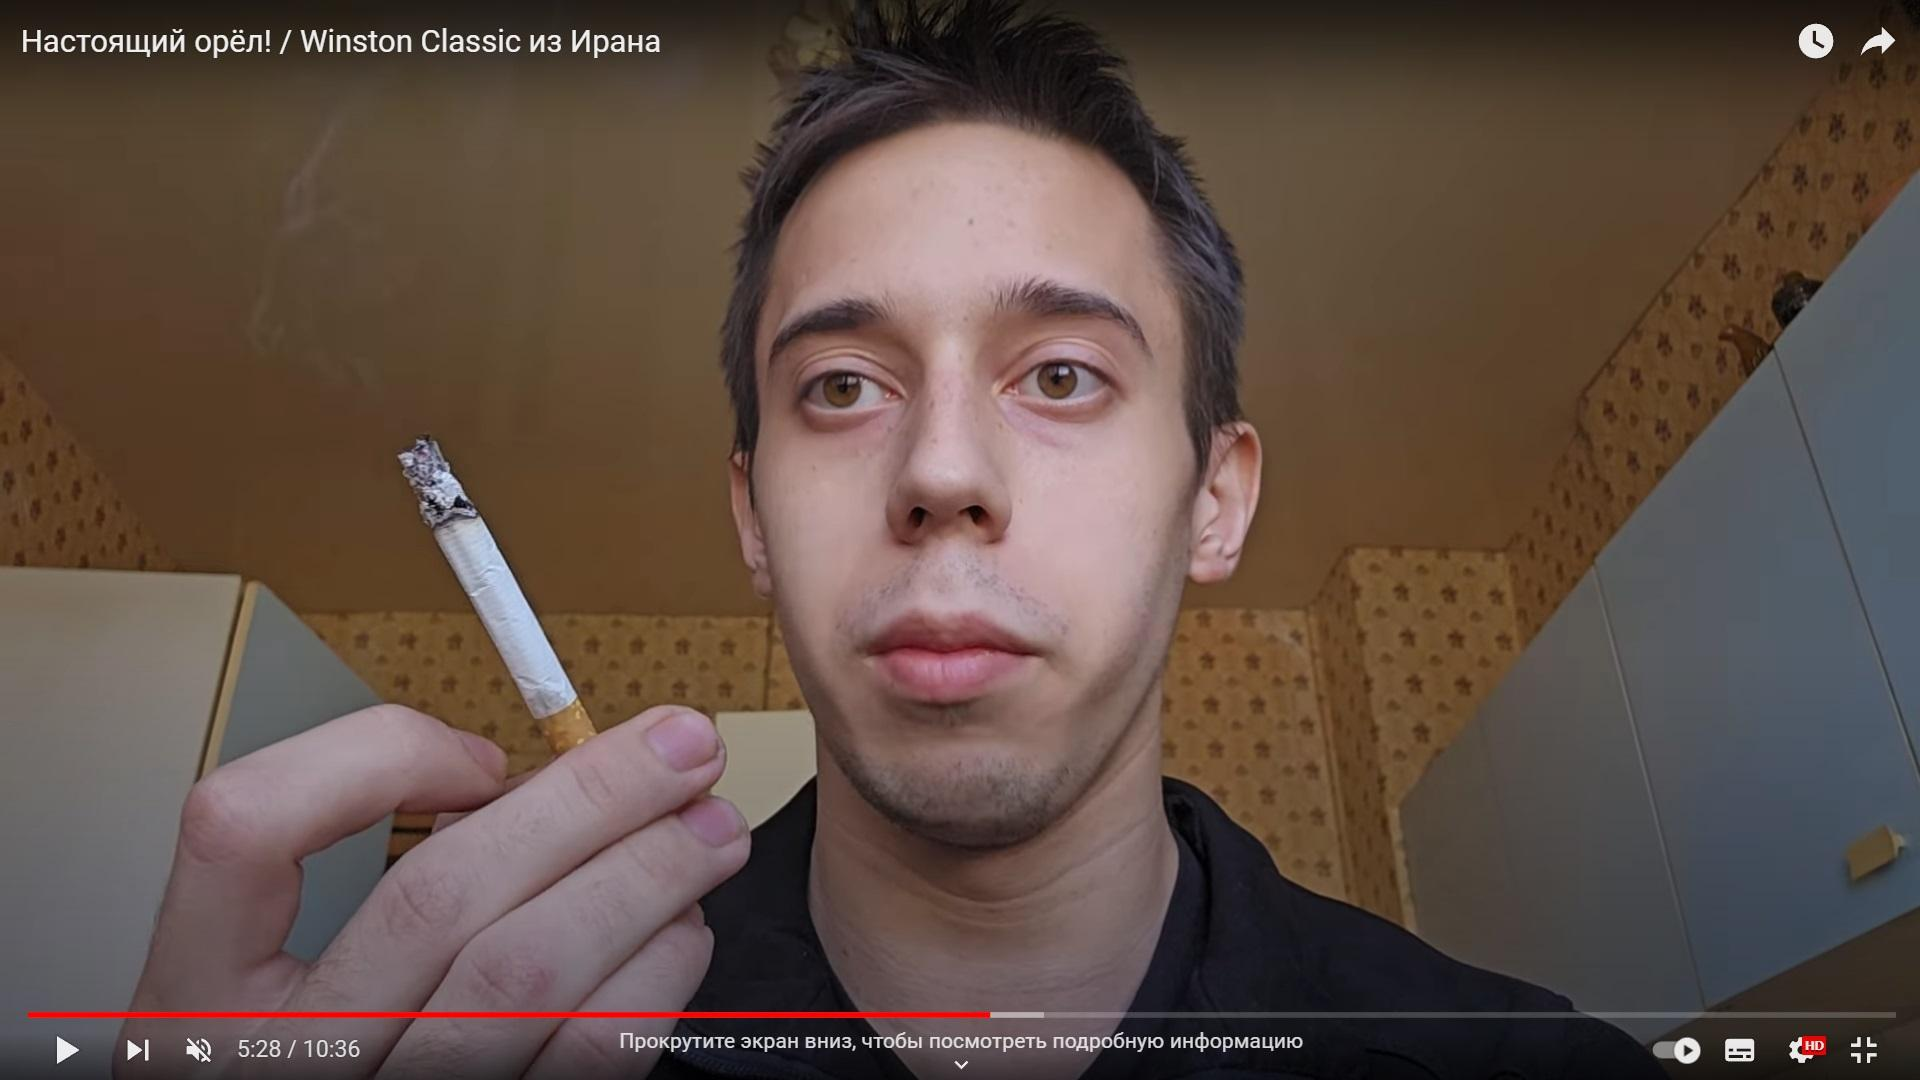cigarette: (396, 436, 596, 758)
